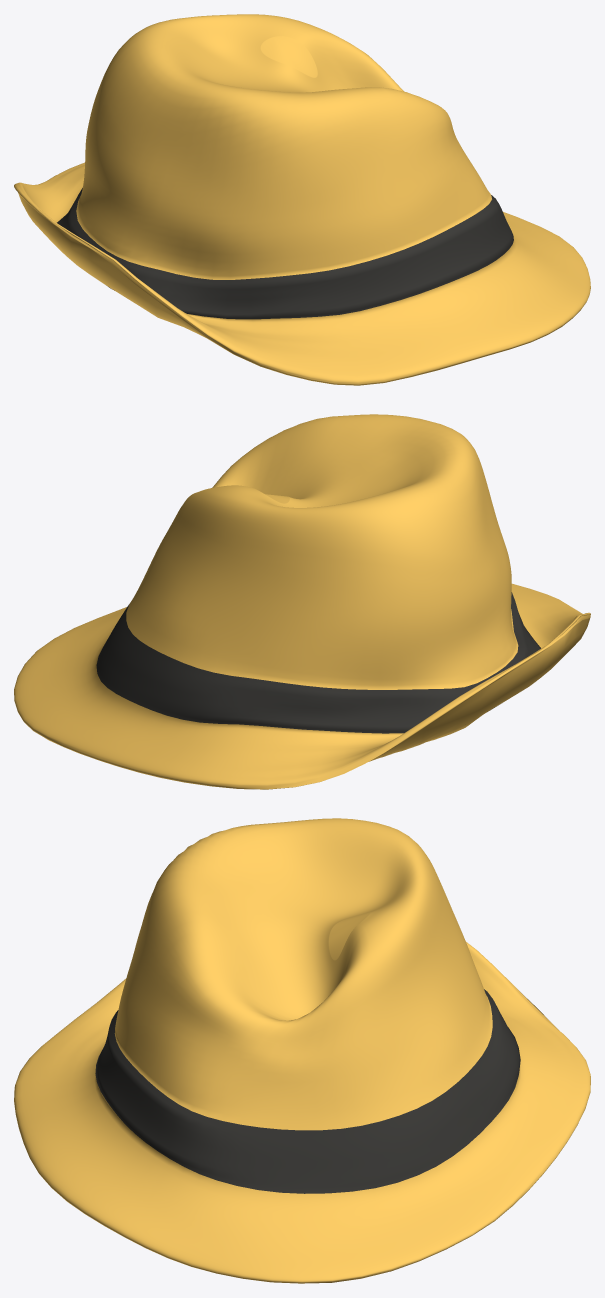
File: Fedora.fbx
3 renders of one model, top to bottom at view 1: azimuth 30°, elevation 25°; view 2: azimuth 150°, elevation 25°; view 3: azimuth 270°, elevation 25°, orthographic. The views are drawn at different scales.
Visible parts, largest first — view 1: Cylinder; view 2: Cylinder; view 3: Cylinder.
Boxes of the visible parts, left/top/right/bottom form: Cylinder: left=14, top=14, right=590, bottom=385; Cylinder: left=14, top=414, right=590, bottom=789; Cylinder: left=14, top=818, right=590, bottom=1283.
Size of the model in its own units: 239 by 123 by 233.
